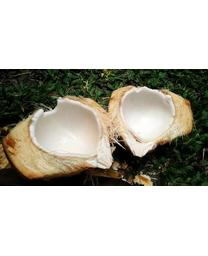coconut: (2, 94, 116, 180), (109, 85, 193, 158)
